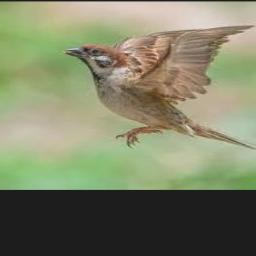Sparrow: (60, 25, 256, 152)
